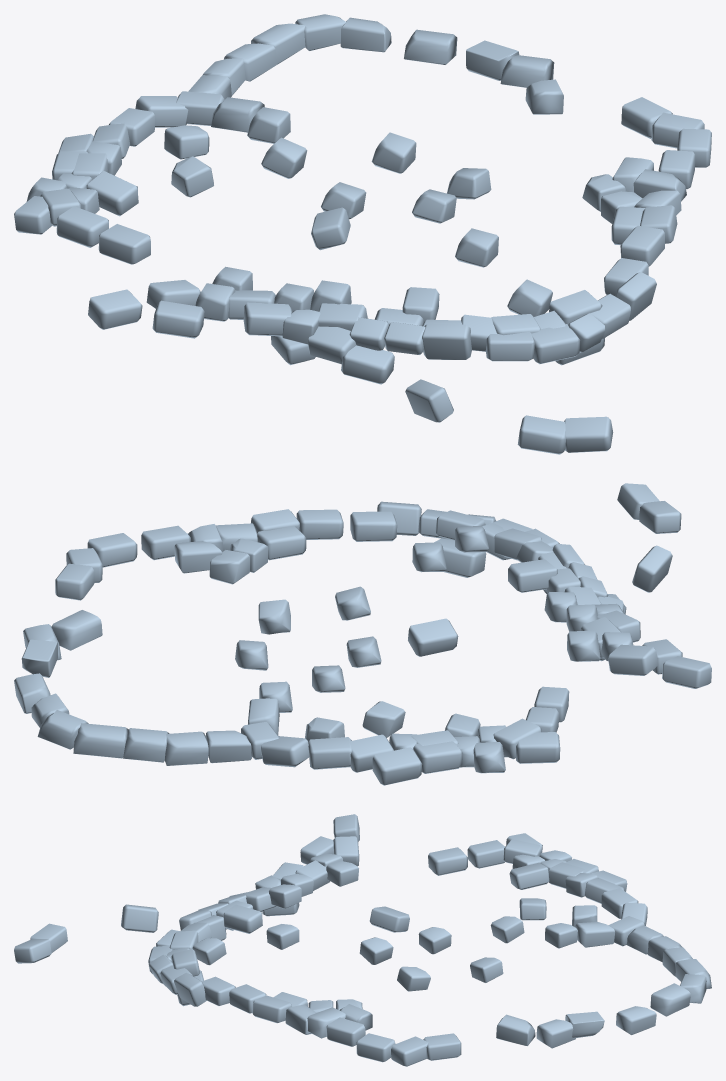
Rendered from Floor_Break_06D_Lod0.fbx.
3 views of the same model, one above another, from view 1: azimuth 30°, elevation 25°; view 2: azimuth 150°, elevation 25°; view 3: azimuth 270°, elevation 25° (orthographic). The views are drawn at different scales.
Visible parts, largest first — view 1: Floor_Break_06D_Lod0; view 2: Floor_Break_06D_Lod0; view 3: Floor_Break_06D_Lod0.
Part boxes in pixels (bbox=[...]): Floor_Break_06D_Lod0: bbox=[14, 14, 711, 454]; Floor_Break_06D_Lod0: bbox=[14, 483, 711, 785]; Floor_Break_06D_Lod0: bbox=[14, 814, 711, 1066].
Size of the model in its own units: 818 by 99.51 by 1022.
